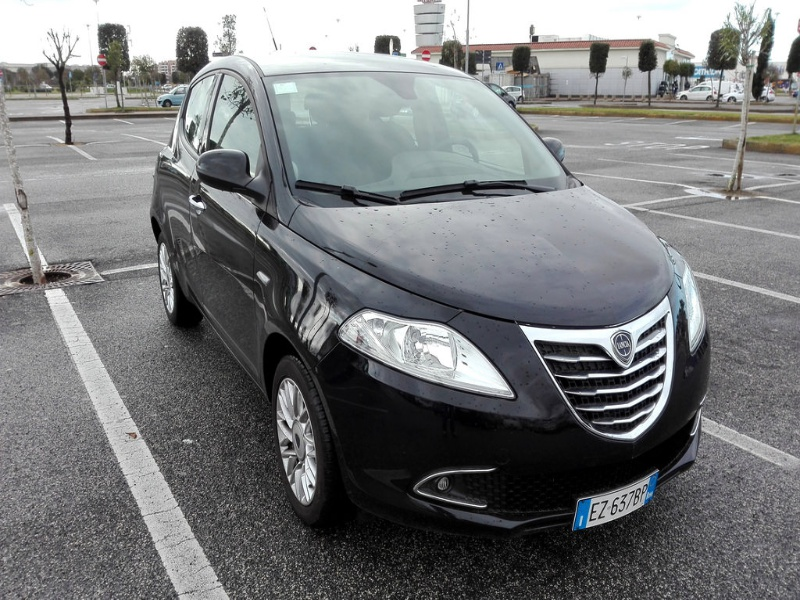licence_plate: (564, 470, 668, 532)
